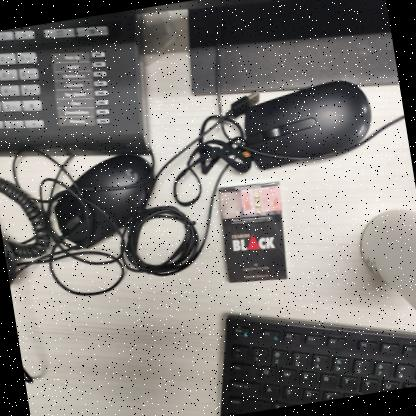bungkus rokok: (204, 170, 304, 291)
